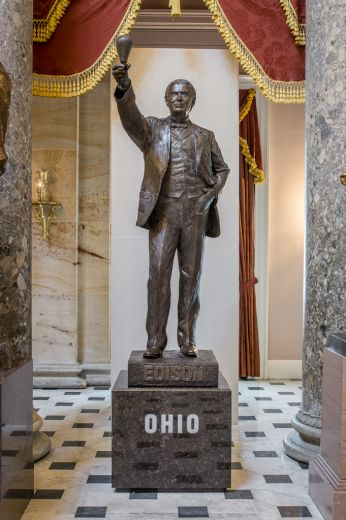person-like: (109, 28, 234, 361)
